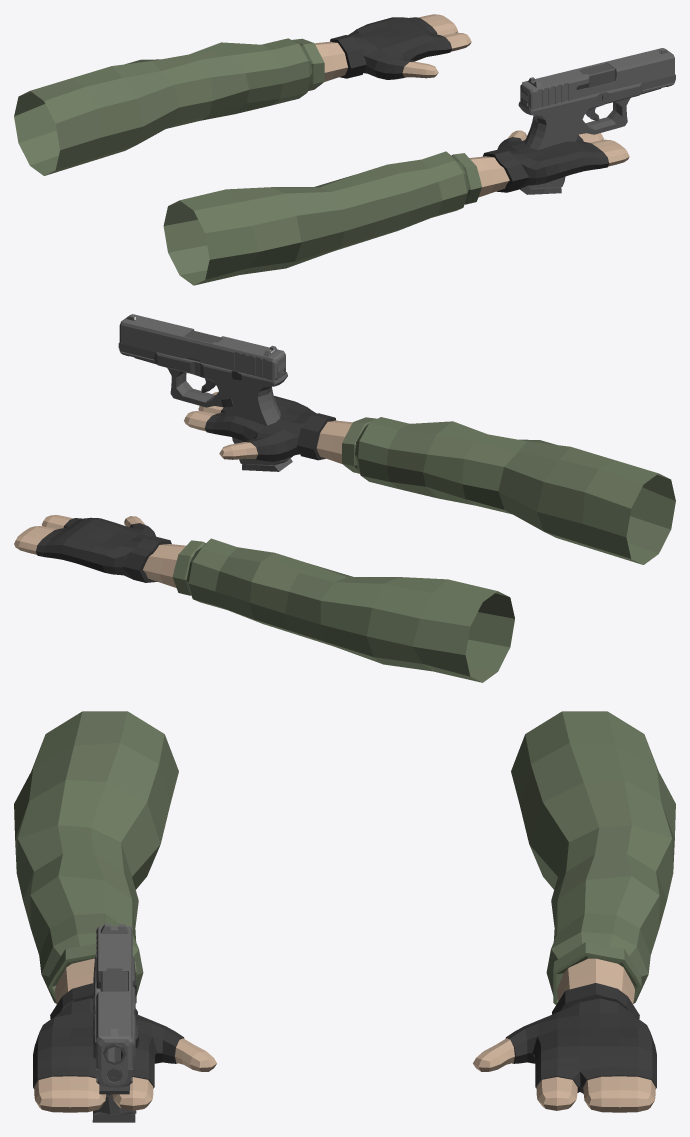
File: FpsGlock.glb
3 renders of one model, top to bottom at view 1: azimuth 30°, elevation 25°; view 2: azimuth 150°, elevation 25°; view 3: azimuth 270°, elevation 25°, orthographic. The views are drawn at different scales.
Parts seen in each view (by area): view 1: ArmModel, Glock19; view 2: ArmModel, Glock19; view 3: ArmModel, Glock19.
Part boxes in pixels (x1,y1,x2,y2): ArmModel: (14, 14, 629, 285); Glock19: (518, 48, 675, 194); ArmModel: (14, 391, 675, 682); Glock19: (118, 314, 292, 471); ArmModel: (14, 711, 675, 1112); Glock19: (92, 924, 138, 1122).
Size of the model in its own units: 4.28 by 0.9491 by 3.14.
